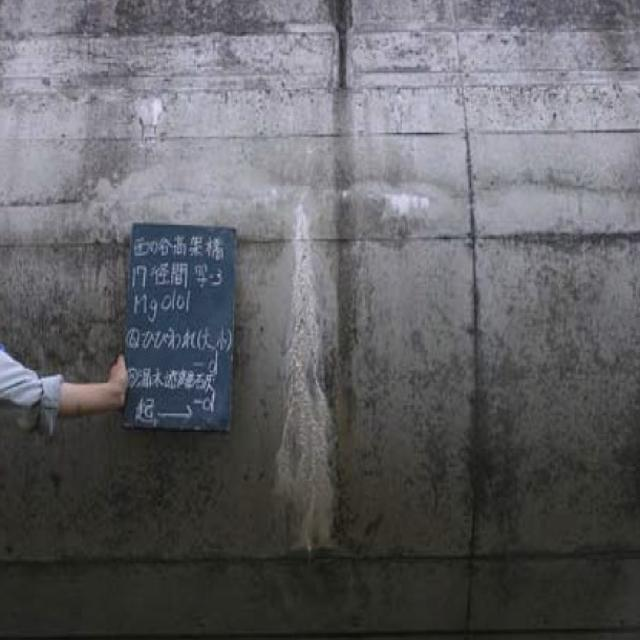freelime: (282, 216, 348, 553)
